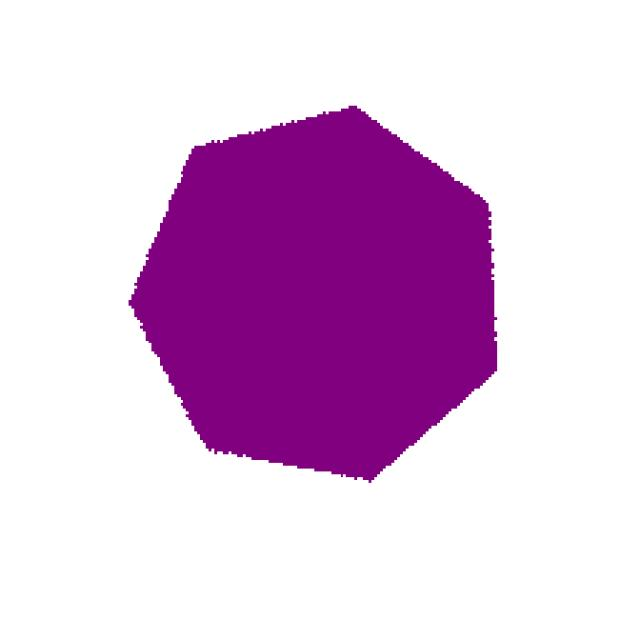Heptagon: (101, 87, 580, 516)
